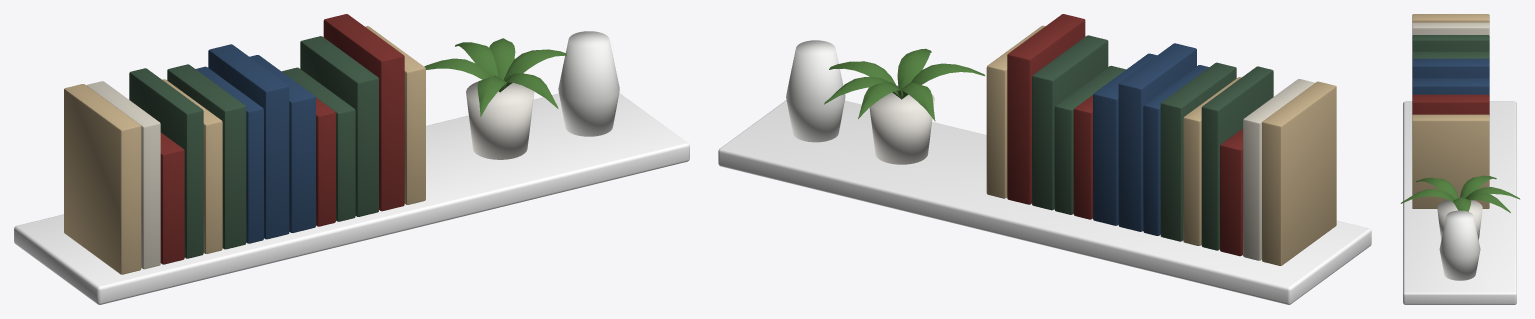
The model's file is estante_parede.glb.
3 renders of one model, left to right at view 1: azimuth 30°, elevation 25°; view 2: azimuth 150°, elevation 25°; view 3: azimuth 270°, elevation 25°, orthographic. The views are drawn at different scales.
Parts seen in each view (by area): view 1: p; view 2: p; view 3: p.
Boxes of the visible parts, x1=… form: p: x1=14, y1=14, x2=689, y2=304; p: x1=718, y1=14, x2=1371, y2=304; p: x1=1400, y1=14, x2=1520, y2=304.
Bounding box in the file's own units: 1 × 0.2736 × 0.2633.
